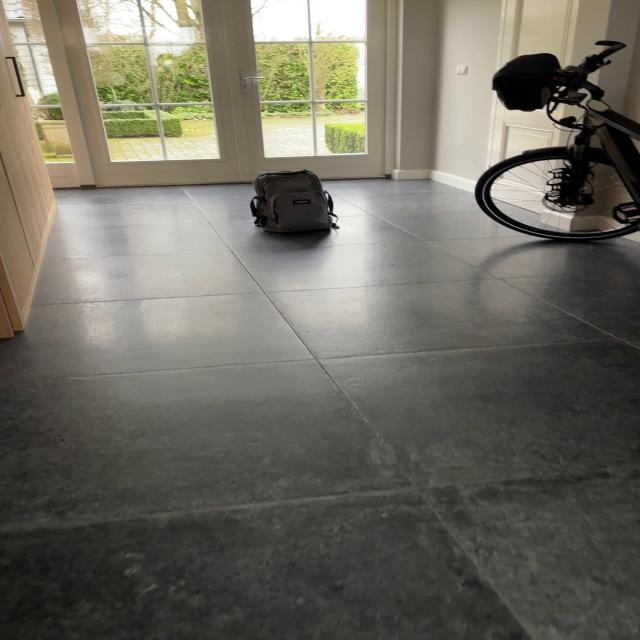backpack: (243, 166, 338, 236)
